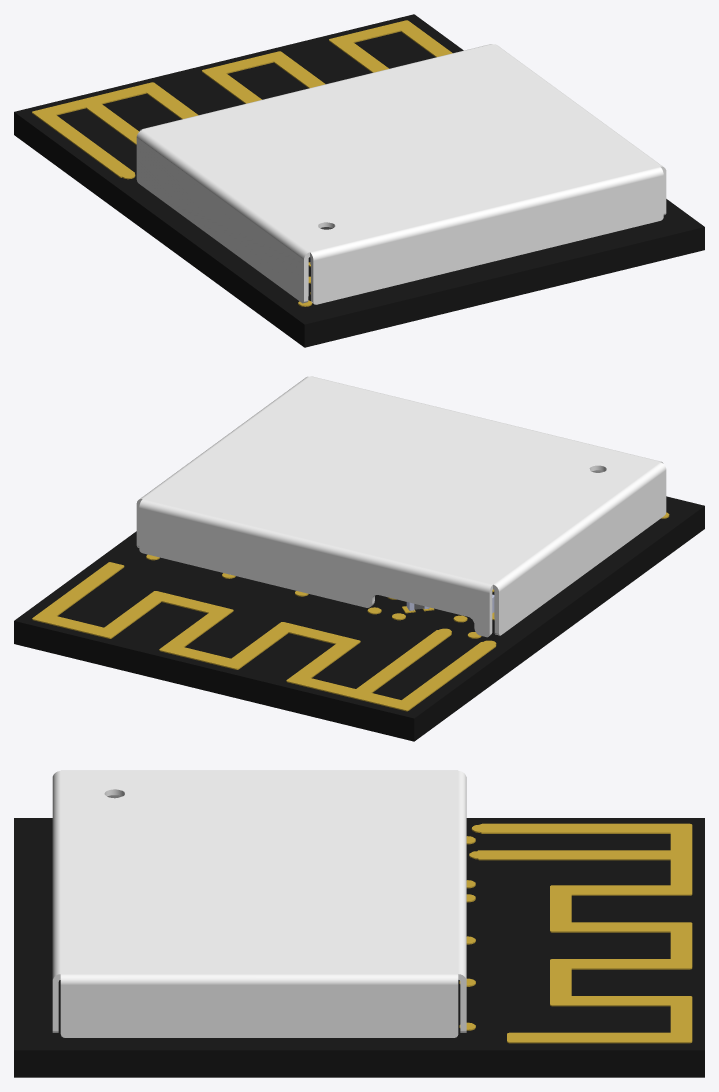
The model's file is Espressif__ESP32-C3-MINI-1.glb.
3 views of the same model, one above another, from view 1: azimuth 30°, elevation 25°; view 2: azimuth 150°, elevation 25°; view 3: azimuth 270°, elevation 25° (orthographic). The views are drawn at different scales.
Visible parts, largest first — view 1: DFN1006.STEP^DFN1006.STEP_Submodel-SOD882_part_DesignRootMod, uid__2428^DesignRootModel_PCB_ESP32-C3-MINI-1_V1(2)_PCB_ESP3, trace_4^Submodel-MINI-ANT-TYPED-H_1968823293_part_DesignRoot; view 2: DFN1006.STEP^DFN1006.STEP_Submodel-SOD882_part_DesignRootMod, uid__2428^DesignRootModel_PCB_ESP32-C3-MINI-1_V1(2)_PCB_ESP3, trace_4^Submodel-MINI-ANT-TYPED-H_1968823293_part_DesignRoot; view 3: DFN1006.STEP^DFN1006.STEP_Submodel-SOD882_part_DesignRootMod, uid__2428^DesignRootModel_PCB_ESP32-C3-MINI-1_V1(2)_PCB_ESP3, trace_4^Submodel-MINI-ANT-TYPED-H_1968823293_part_DesignRoot.
Boxes of the visible parts, x1=… form: DFN1006.STEP^DFN1006.STEP_Submodel-SOD882_part_DesignRootMod: x1=136, y1=44, x2=666, y2=304; uid__2428^DesignRootModel_PCB_ESP32-C3-MINI-1_V1(2)_PCB_ESP3: x1=14, y1=14, x2=704, y2=347; trace_4^Submodel-MINI-ANT-TYPED-H_1968823293_part_DesignRoot: x1=32, y1=20, x2=452, y2=306; DFN1006.STEP^DFN1006.STEP_Submodel-SOD882_part_DesignRootMod: x1=136, y1=376, x2=666, y2=637; uid__2428^DesignRootModel_PCB_ESP32-C3-MINI-1_V1(2)_PCB_ESP3: x1=14, y1=496, x2=704, y2=741; trace_4^Submodel-MINI-ANT-TYPED-H_1968823293_part_DesignRoot: x1=32, y1=512, x2=669, y2=711; DFN1006.STEP^DFN1006.STEP_Submodel-SOD882_part_DesignRootMod: x1=52, y1=770, x2=466, y2=1037; uid__2428^DesignRootModel_PCB_ESP32-C3-MINI-1_V1(2)_PCB_ESP3: x1=14, y1=818, x2=704, y2=1077; trace_4^Submodel-MINI-ANT-TYPED-H_1968823293_part_DesignRoot: x1=459, y1=823, x2=692, y2=1043.
Size of the model in its own units: 0.0132 by 0.0024 by 0.0166.
